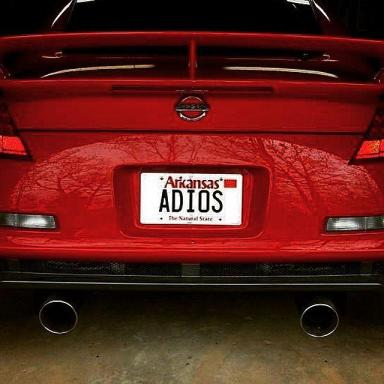License_Plate: (137, 168, 247, 230)
